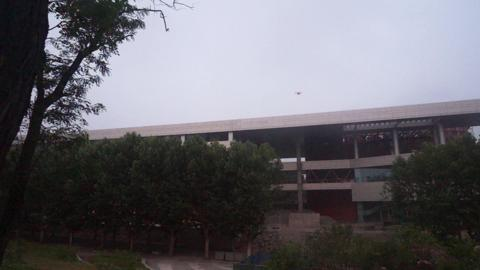UAV: (295, 92, 303, 96)
